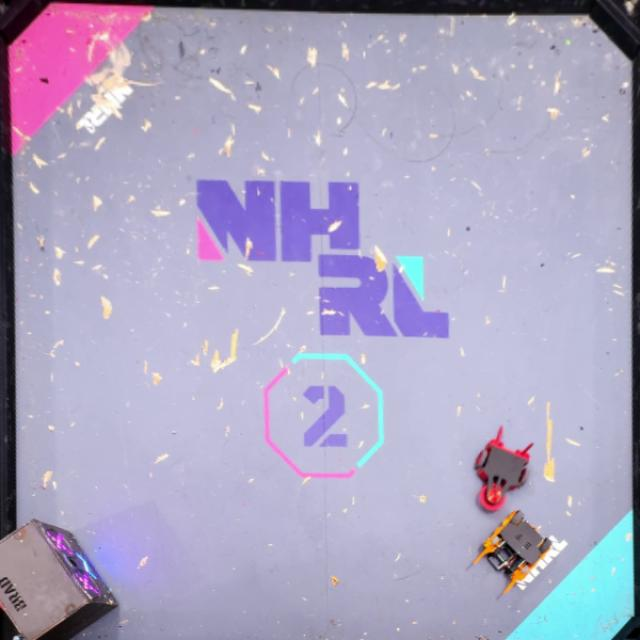housebot: (0, 518, 121, 640)
robot: (469, 509, 554, 596), (474, 424, 536, 510)
